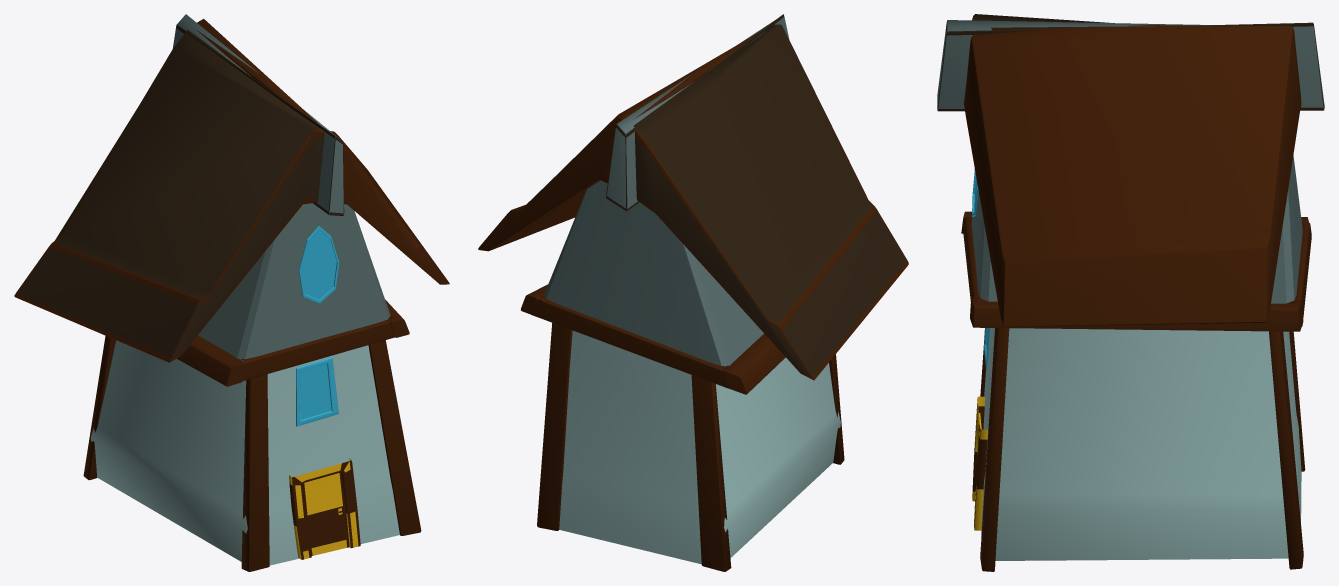
The model's file is house_3.fbx.
3 views of the same model, side by side, from view 1: azimuth 30°, elevation 25°; view 2: azimuth 150°, elevation 25°; view 3: azimuth 270°, elevation 25° (orthographic). The views are drawn at different scales.
Parts seen in each view (by area): view 1: house_3; view 2: house_3; view 3: house_3.
Part boxes in pixels (x1,y1,x2,y2): house_3: (14, 14, 449, 571); house_3: (478, 14, 908, 571); house_3: (937, 14, 1324, 571).
Size of the model in its own units: 130 by 155 by 109.
